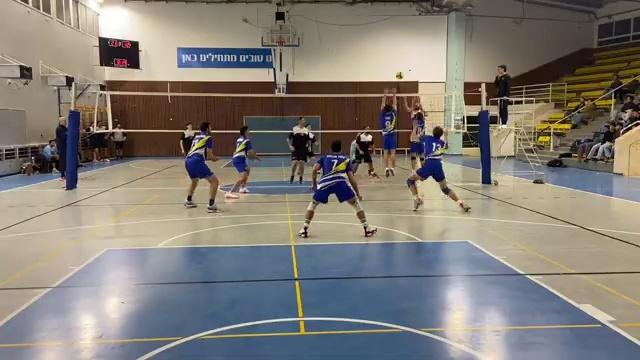ball: (395, 72, 407, 82)
